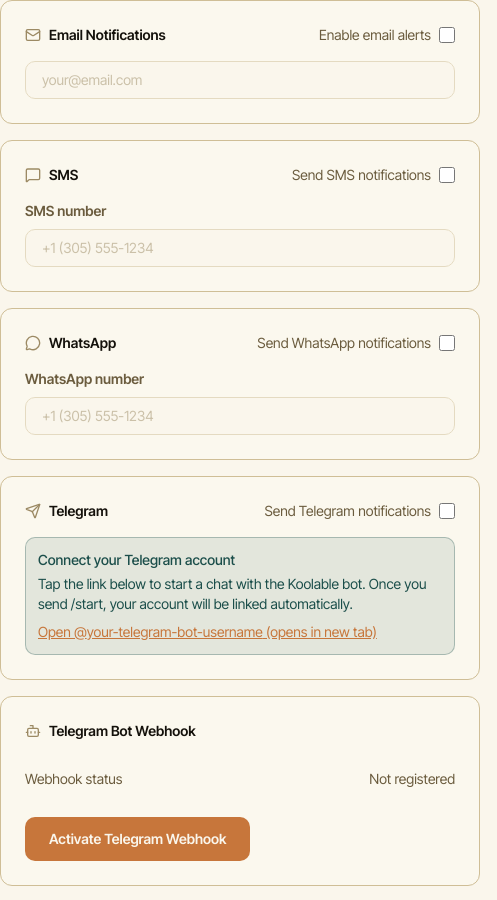
Test: NotificationSettingsForm webhook card › inline error displayed below button when server action returns { ok: false, error: "Test error" }
The width and height of the screenshot is (497, 900).
Step 1. Click the button "Activate Telegram Webhook" → (138, 839), box [25,817,250,861]
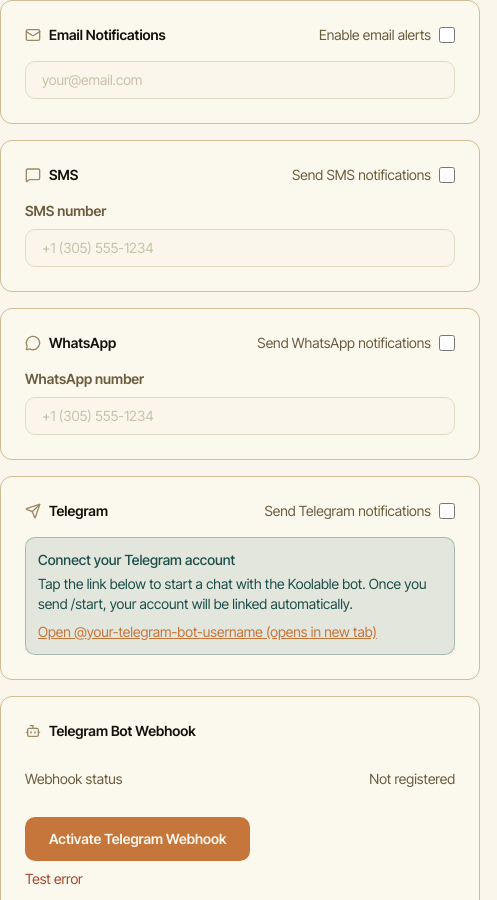
Expected: the message reads "Test error", [25,870,83,887]
